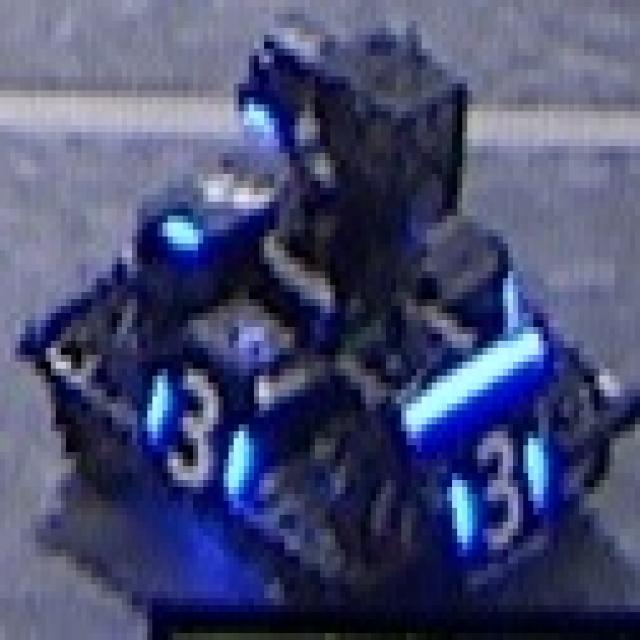B3: (137, 362, 254, 508), (442, 424, 548, 550)
